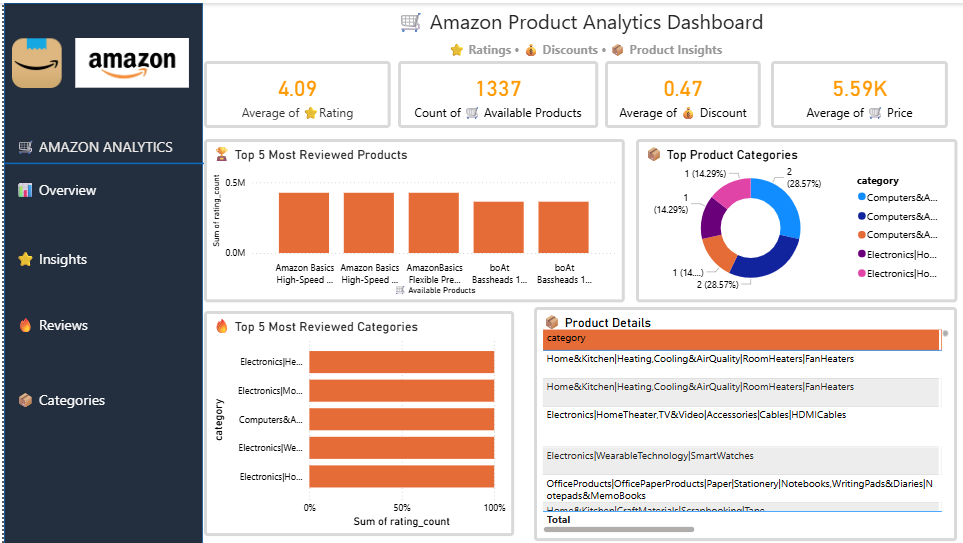

The page's visual inventory and layout, read from the dashboard file:
{"tool":"powerbi","page":{"name":"Page 1","canvas":[1280,720],"ordinal":0},"visuals":[{"type":"shape","box":[0,0,264.3,721.2],"z":0},{"type":"image","box":[11,23.4,66.1,112.9],"z":1000},{"type":"image","box":[88.1,46.8,165.2,66.1],"z":2000},{"type":"textbox","box":[264.3,0,1002,46.8],"z":3000},{"type":"textbox","box":[264.3,45.4,1015.7,31.7],"z":4000},{"type":"card","fields":{"Values":["Avg(amazon.⭐ Avg Rating)"]},"box":[265.7,77,248.4,89],"z":5000},{"type":"card","fields":{"Values":["Count(amazon.product_name)"]},"box":[523.4,77,265.7,89],"z":6000},{"type":"card","fields":{"Values":["Avg(amazon.discount_percentage)"]},"box":[798.4,77,207.2,89],"z":7000},{"type":"card","fields":{"Values":["Avg(amazon.actual_price)"]},"box":[1018.9,77,235.1,89],"z":8000},{"type":"columnChart","title":"🏆 Top 5 Most Reviewed Products","fields":{"Category":["amazon.🛒 Available Products"],"Y":["Sum(amazon.rating_count)"]},"box":[265.6,180.3,558.8,217.5],"z":9000},{"type":"donutChart","title":"📦 Top Product Categories","fields":{"Category":["amazon.category"],"Y":["CountNonNull(amazon.🛒 Available Products)"]},"box":[839.6,180.3,426.7,217.5],"z":10000},{"type":"hundredPercentStackedBarChart","title":"🔥 Top 5 Most Reviewed Categories","fields":{"Category":["amazon.category"],"Y":["Sum(amazon.rating_count)"]},"box":[265.6,408.8,411.5,298.7],"z":11000},{"type":"tableEx","title":"📦 Product Details","fields":{"Values":["amazon.category","amazon.🛒 Available Products","Sum(amazon.⭐Rating)","Sum(amazon.rating_count)","Sum(amazon.💰 Discount)","Sum(amazon.discounted_price)"]},"box":[704.7,403.3,561.5,311.1],"z":12000},{"type":"textbox","box":[11,172,231.2,49.5],"z":13000},{"type":"shape","box":[0,196.8,265.6,33],"z":14000},{"type":"textbox","box":[11,229.8,231.2,59.2],"z":15000},{"type":"textbox","box":[11,322.1,231.2,55.1],"z":16000},{"type":"textbox","box":[11,408.8,231.2,63.3],"z":17000},{"type":"textbox","box":[11,509.2,231.2,71.6],"z":18000}]}

Visuals, with their boxes in screenshot pixels (x1, y1, x2, y2):
shape: pyautogui.locateOnScreen(0, 0, 201, 520)
image: pyautogui.locateOnScreen(6, 0, 57, 70)
image: pyautogui.locateOnScreen(65, 1, 192, 52)
textbox: pyautogui.locateOnScreen(201, 0, 962, 1)
textbox: pyautogui.locateOnScreen(201, 0, 962, 24)
card - Avg(amazon.⭐ Avg Rating): pyautogui.locateOnScreen(202, 24, 393, 93)
card - Count(amazon.product_name): pyautogui.locateOnScreen(400, 24, 604, 93)
card - Avg(amazon.discount_percentage): pyautogui.locateOnScreen(612, 24, 771, 93)
card - Avg(amazon.actual_price): pyautogui.locateOnScreen(781, 24, 962, 93)
"🏆 Top 5 Most Reviewed Products" columnChart: pyautogui.locateOnScreen(202, 104, 632, 271)
"📦 Top Product Categories" donutChart: pyautogui.locateOnScreen(643, 104, 962, 271)
"🔥 Top 5 Most Reviewed Categories" hundredPercentStackedBarChart: pyautogui.locateOnScreen(202, 279, 518, 509)
"📦 Product Details" tableEx: pyautogui.locateOnScreen(540, 275, 962, 514)
textbox: pyautogui.locateOnScreen(6, 97, 184, 135)
shape: pyautogui.locateOnScreen(0, 116, 202, 142)
textbox: pyautogui.locateOnScreen(6, 142, 184, 187)
textbox: pyautogui.locateOnScreen(6, 213, 184, 255)
textbox: pyautogui.locateOnScreen(6, 279, 184, 328)
textbox: pyautogui.locateOnScreen(6, 357, 184, 412)
